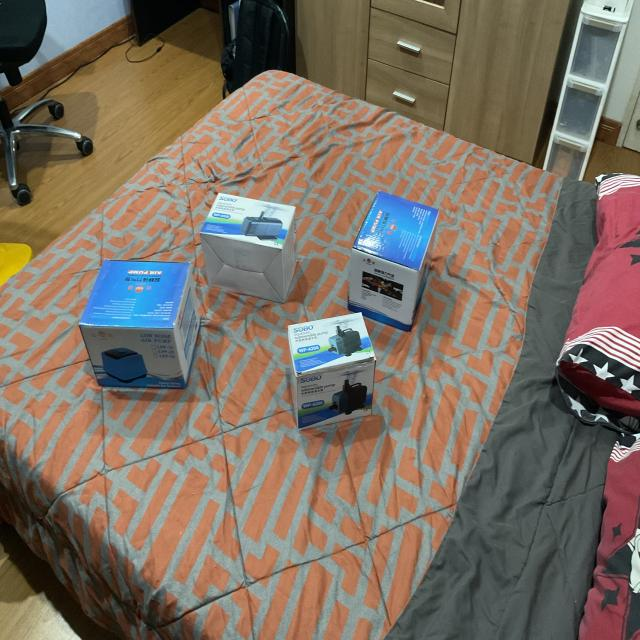SOBO_WP_4200: (278, 312, 399, 446), (201, 182, 309, 308)
YAMANO_LPP_20: (78, 238, 205, 406), (349, 175, 449, 329)
